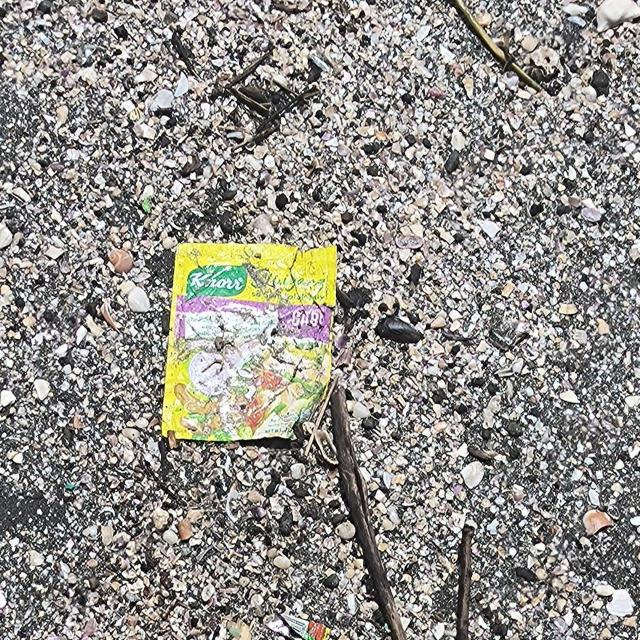plastic_waste: (165, 240, 340, 442)
